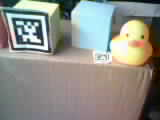duck: (108, 11, 151, 64)
